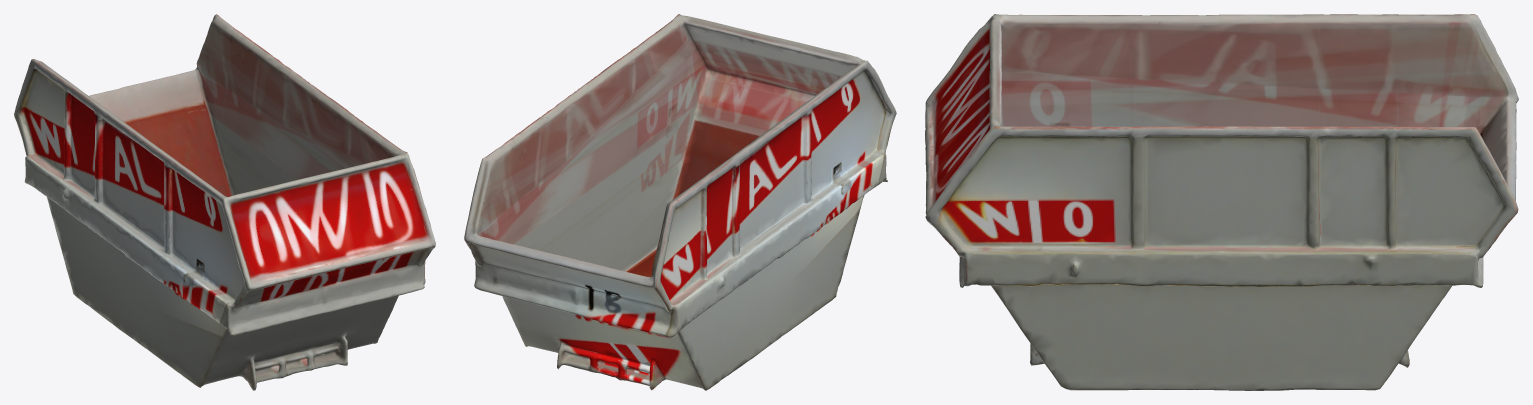
The model's file is skip-3m3.glb.
3 renders of one model, left to right at view 1: azimuth 30°, elevation 25°; view 2: azimuth 150°, elevation 25°; view 3: azimuth 270°, elevation 25°, orthographic. The views are drawn at different scales.
Size of the model in its own units: 1.01 by 1.02 by 2.02.
1 material, 1 textured.
